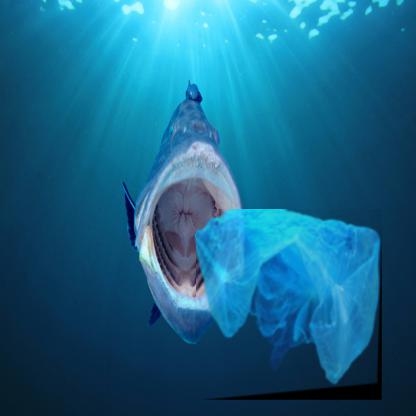plastic-bag: (196, 209, 383, 401)
